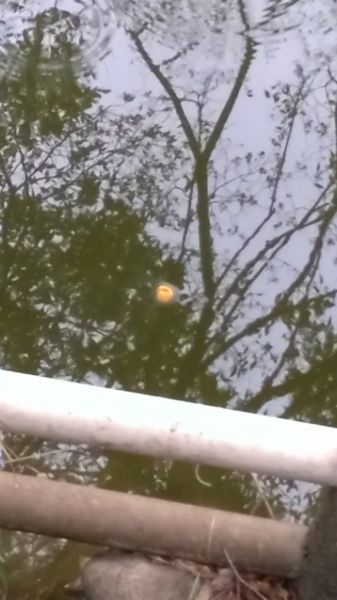eggs: (147, 281, 179, 304)
